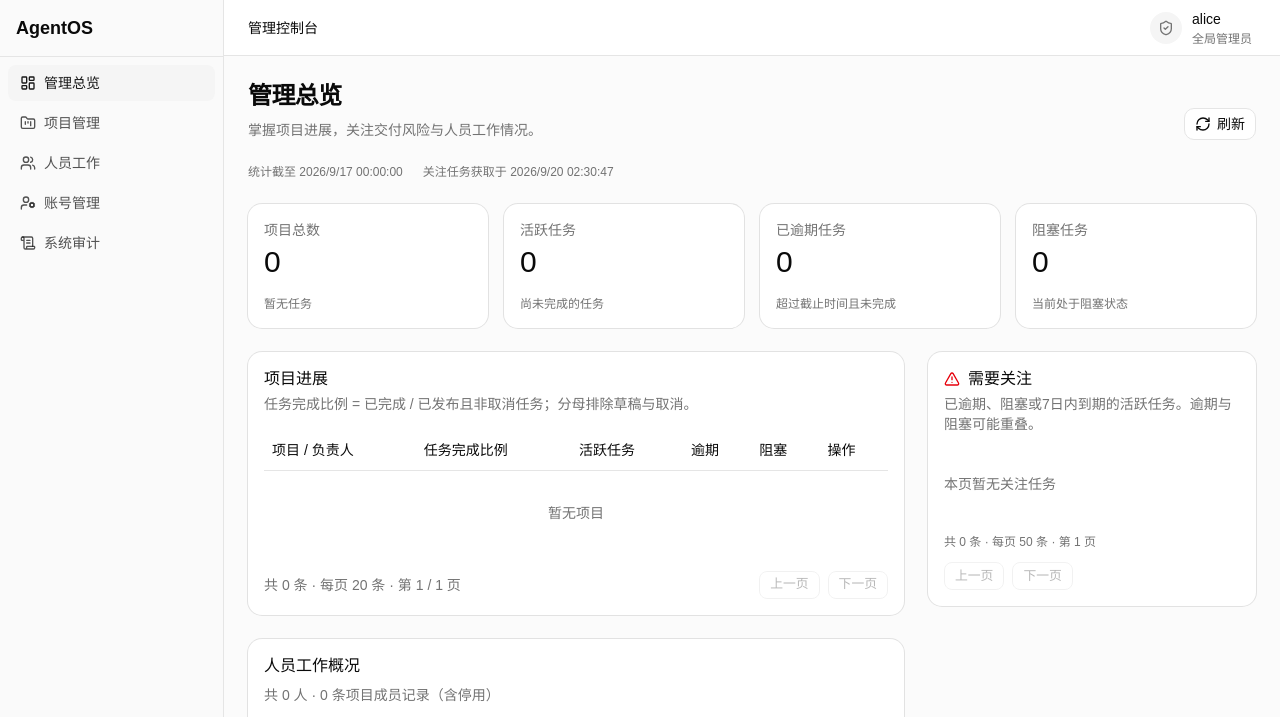
Test: AdminConsolePage 管理控制台 › 系统审计展示平台级审计事件（project.created 映射为中文）
Click the button "系统审计" at {"x": 112, "y": 243}, box [8,225,215,261]
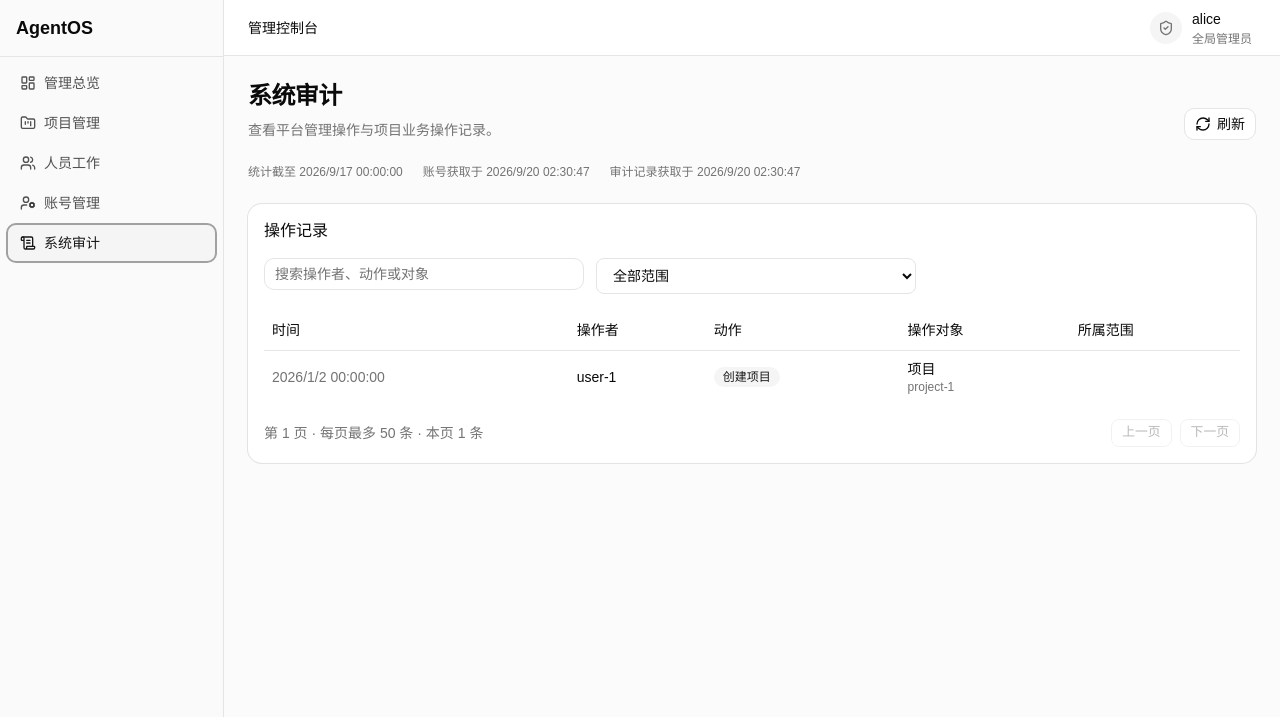
Now the text "创建项目" is shown, box [714,367,780,387]
